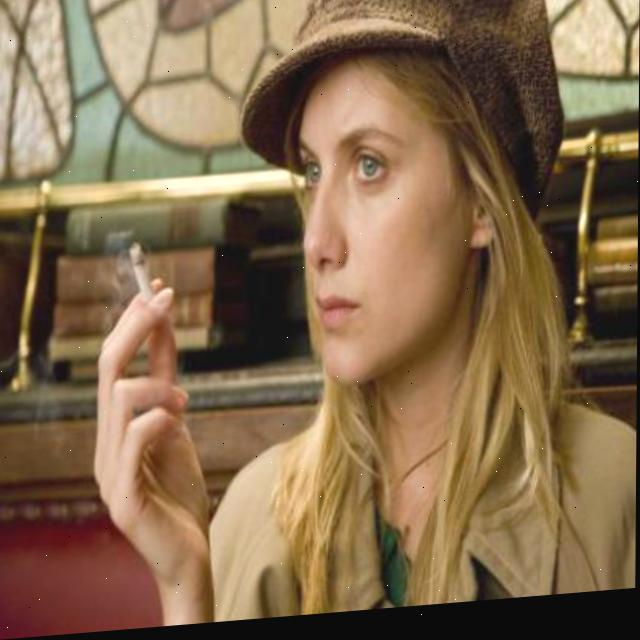cigarette: (128, 242, 157, 309)
